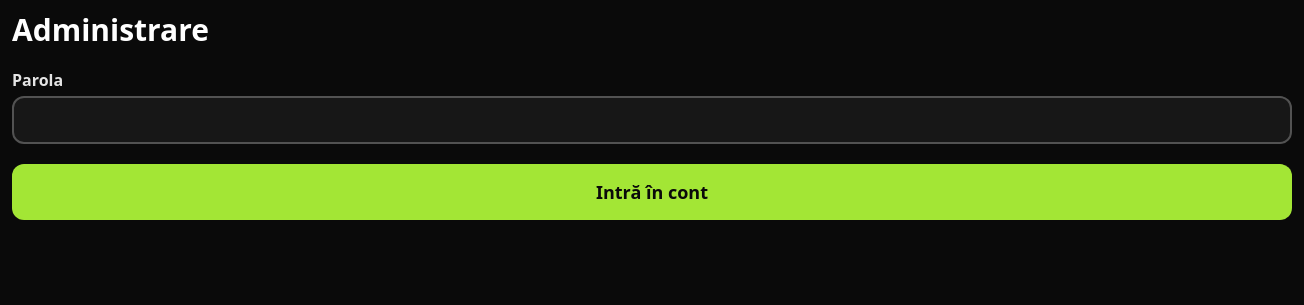
Test: Admin › logged out shows the password form and the server error
Type "x" into the password field labelled "Parola" at coordinates (652, 120), box [12,96,1292,144]
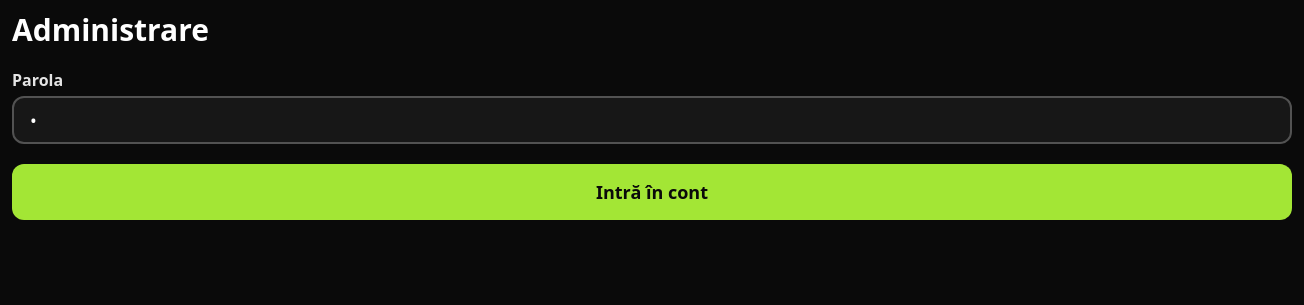
Click the button "Intră în cont" at coordinates (652, 192), box [12,164,1292,220]
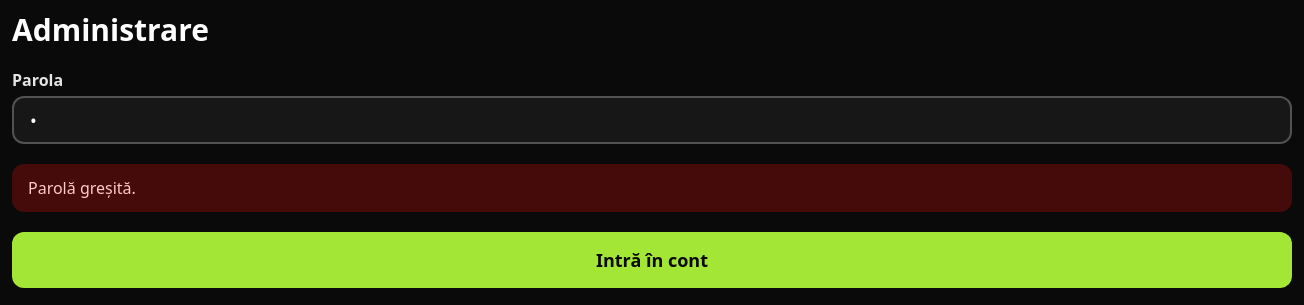
Check: the text "Parolă greșită." is shown, box [12,164,1292,212]
